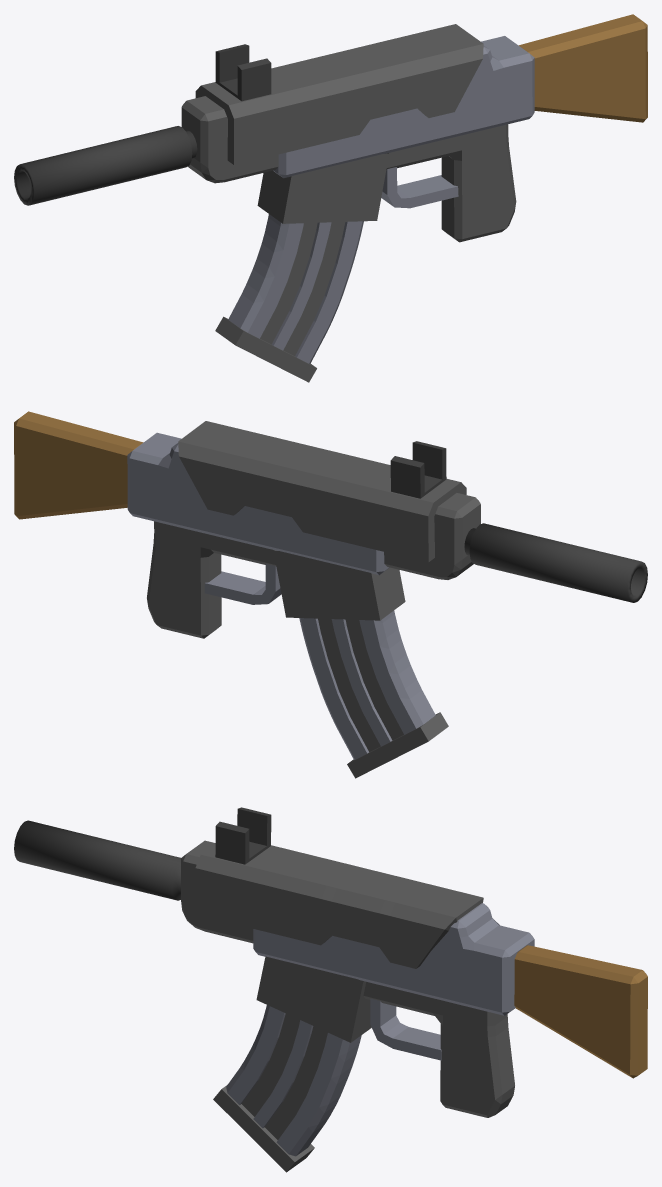
3 renders of one model, top to bottom at view 1: azimuth 30°, elevation 25°; view 2: azimuth 150°, elevation 25°; view 3: azimuth 330°, elevation 25°, orthographic.
Parts seen in each view (by area): view 1: AK; view 2: AK; view 3: AK.
Boxes of the visible parts, x1,y1,x2,y2 form: AK: (14, 14, 647, 382); AK: (14, 411, 647, 778); AK: (14, 807, 647, 1172).
Bounding box in the file's own units: 142 × 73.03 × 15.37.
